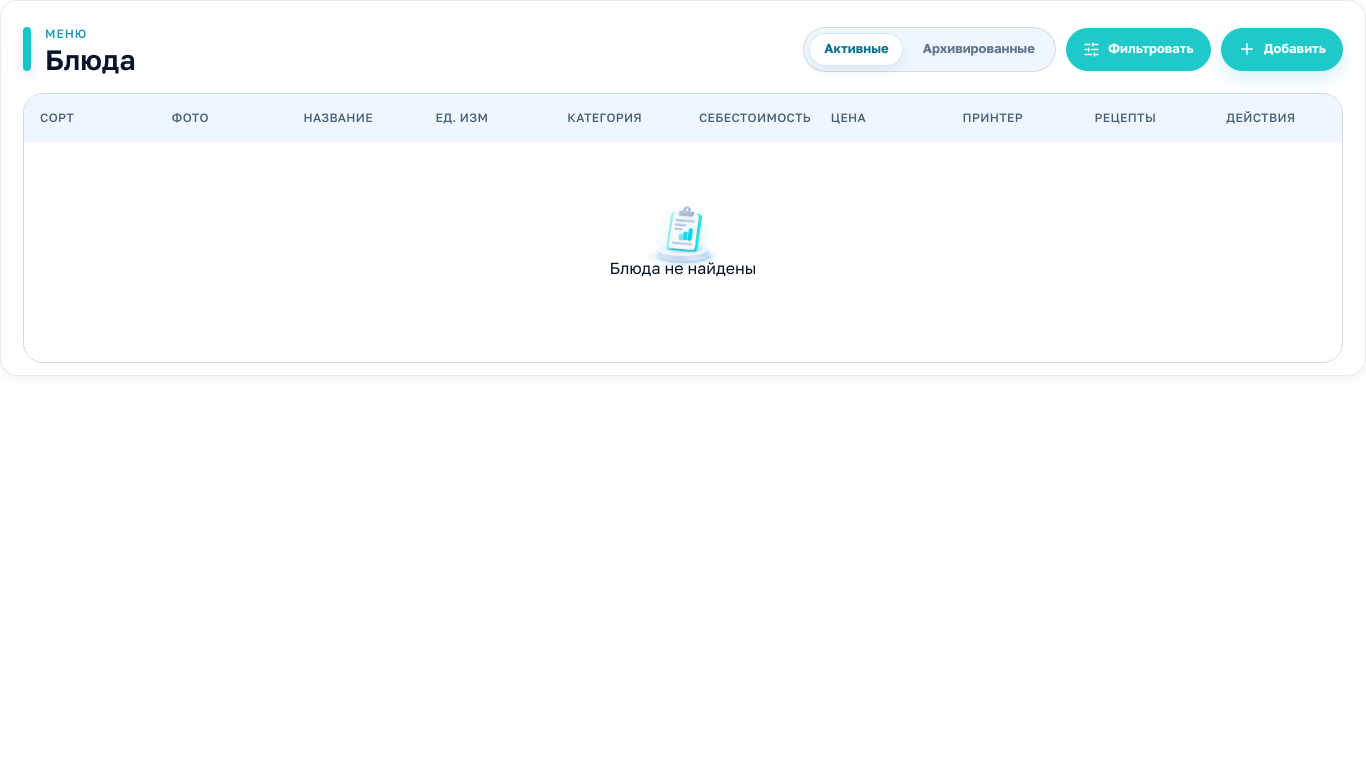
Scenario: DISHES archive/restore confirms › shows restore (not trash) in Archived and restores through confirm
Expected: the table named "Блюда" is shown, top-left (24, 94), bottom-right (1342, 142)
Click the tab "Архивированные" at (979, 49), box top-left (908, 32), bottom-right (1050, 66)
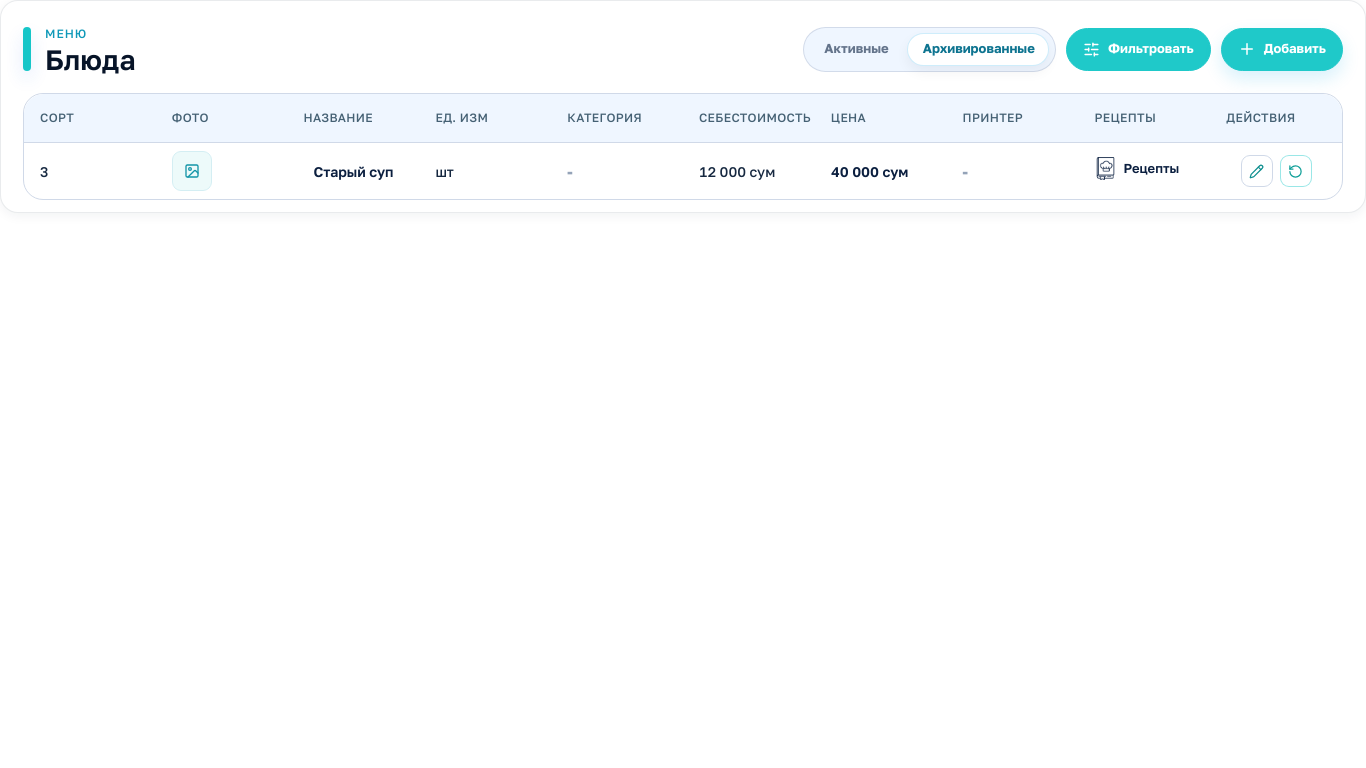
Now the table named "Блюда" shows "Старый суп", box top-left (314, 162), bottom-right (394, 180)
Note: Отмена восстановления: без PATCH.
Click the button named "Восстановить" at (1296, 171), box top-left (1280, 155), bottom-right (1312, 187)
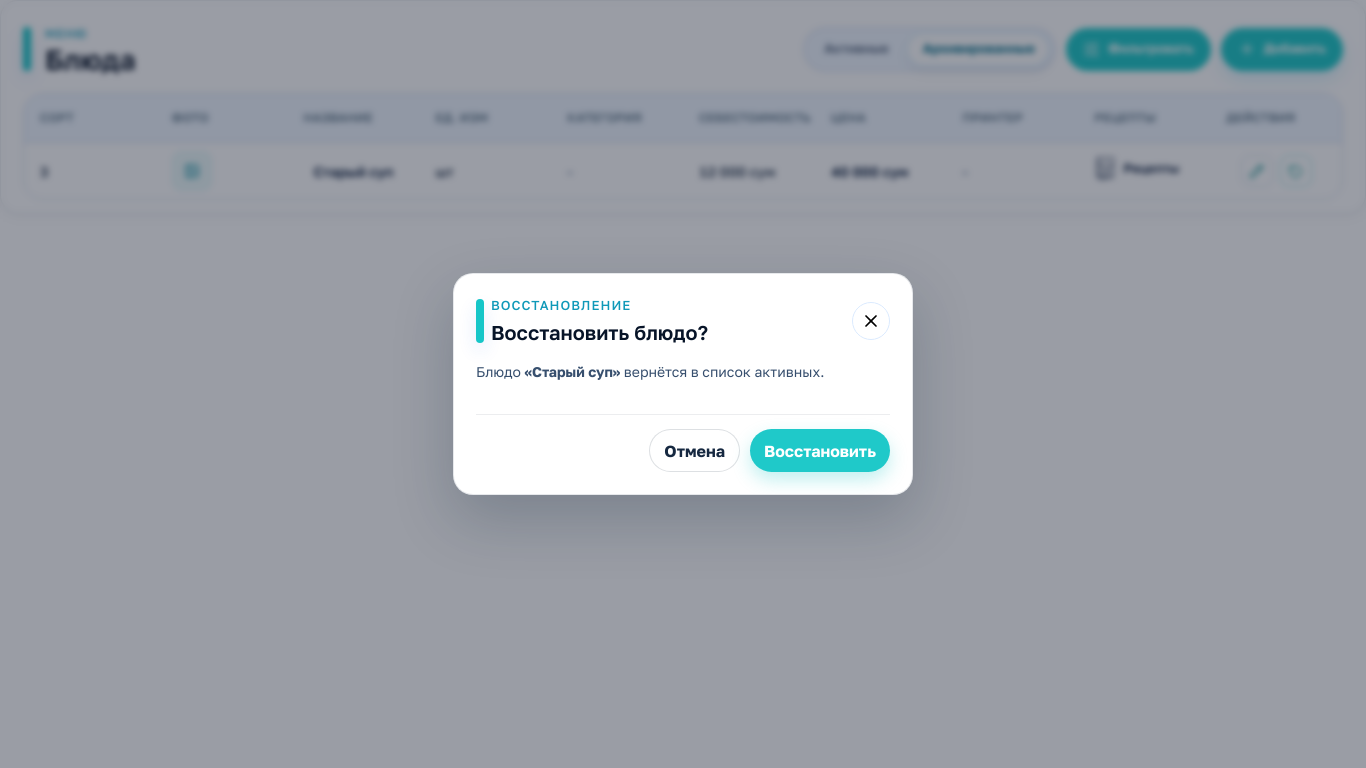
Now the dialog "Восстановить блюдо?" shows "Старый суп", box top-left (532, 363), bottom-right (613, 380)
Click the button "Отмена" at (695, 451), box top-left (649, 429), bottom-right (740, 472)
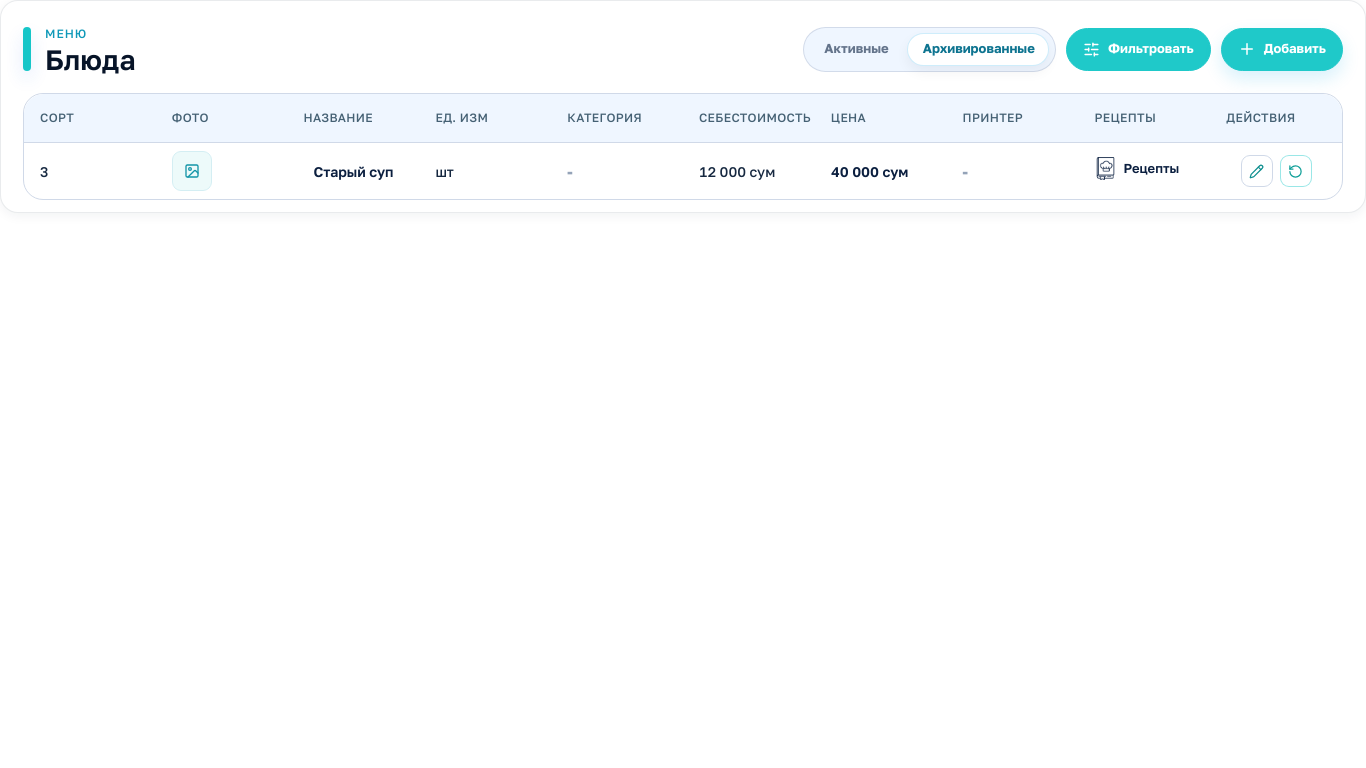
Now the heading "Восстановить блюдо?" is gone
Click the button named "Восстановить" at (1296, 171), box top-left (1280, 155), bottom-right (1312, 187)
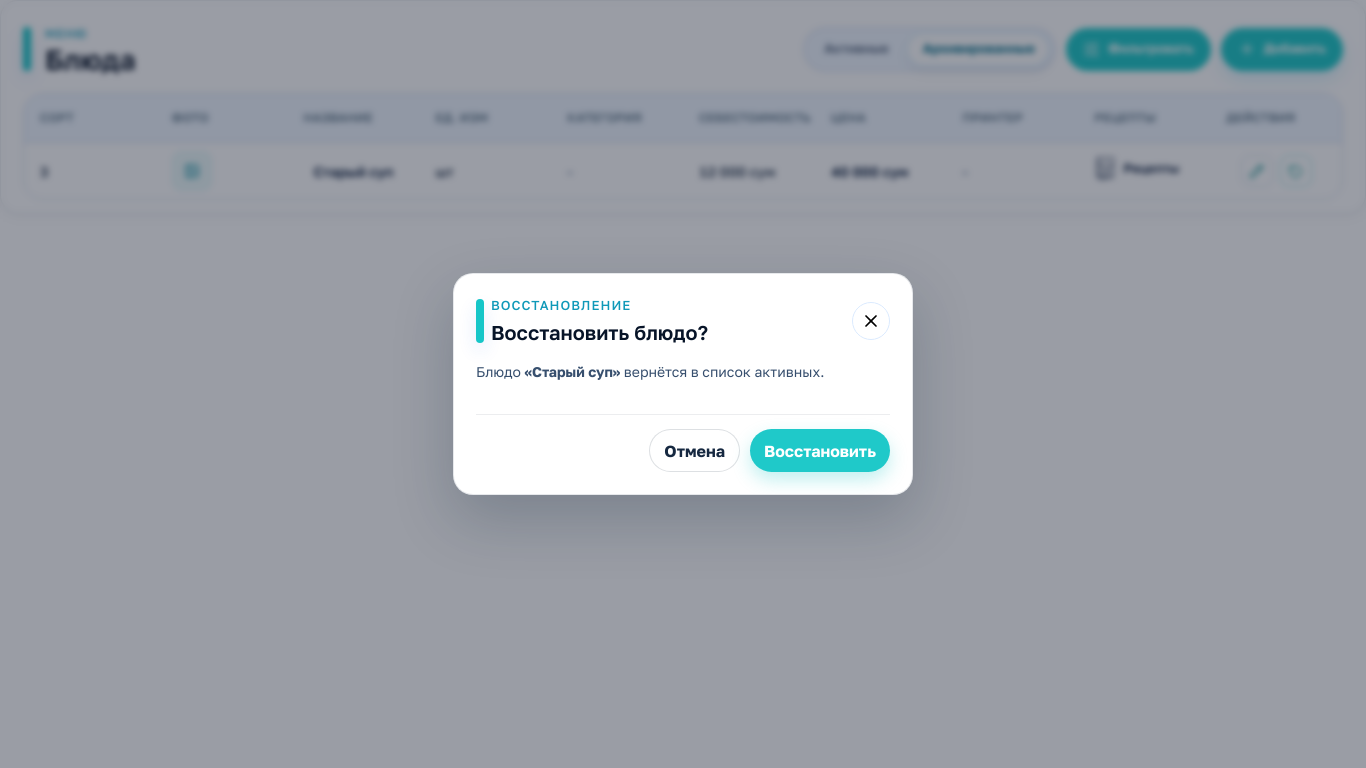
Click the button "Восстановить" at (820, 451), box top-left (750, 429), bottom-right (890, 472)
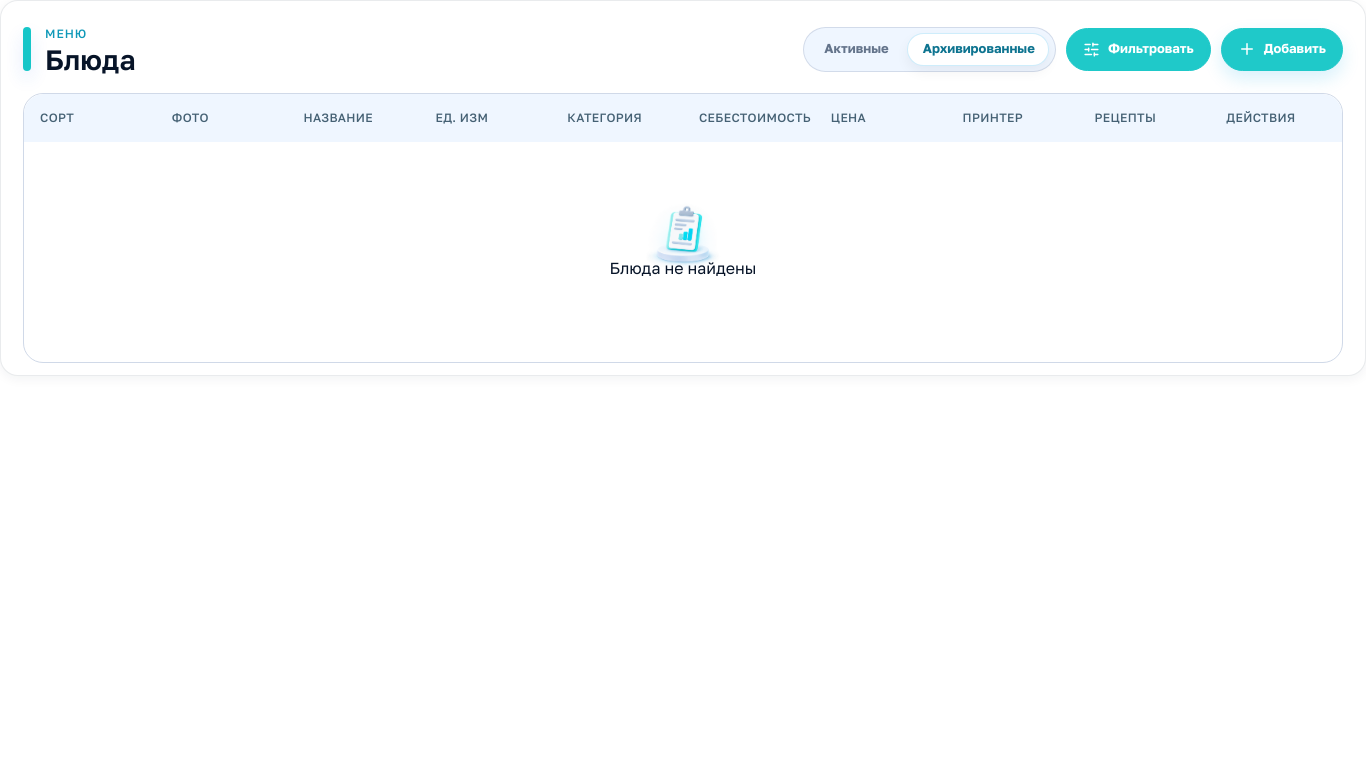
Now the heading "Восстановить блюдо?" is gone
Click the tab "Активные" at (856, 49), box top-left (809, 32), bottom-right (904, 66)
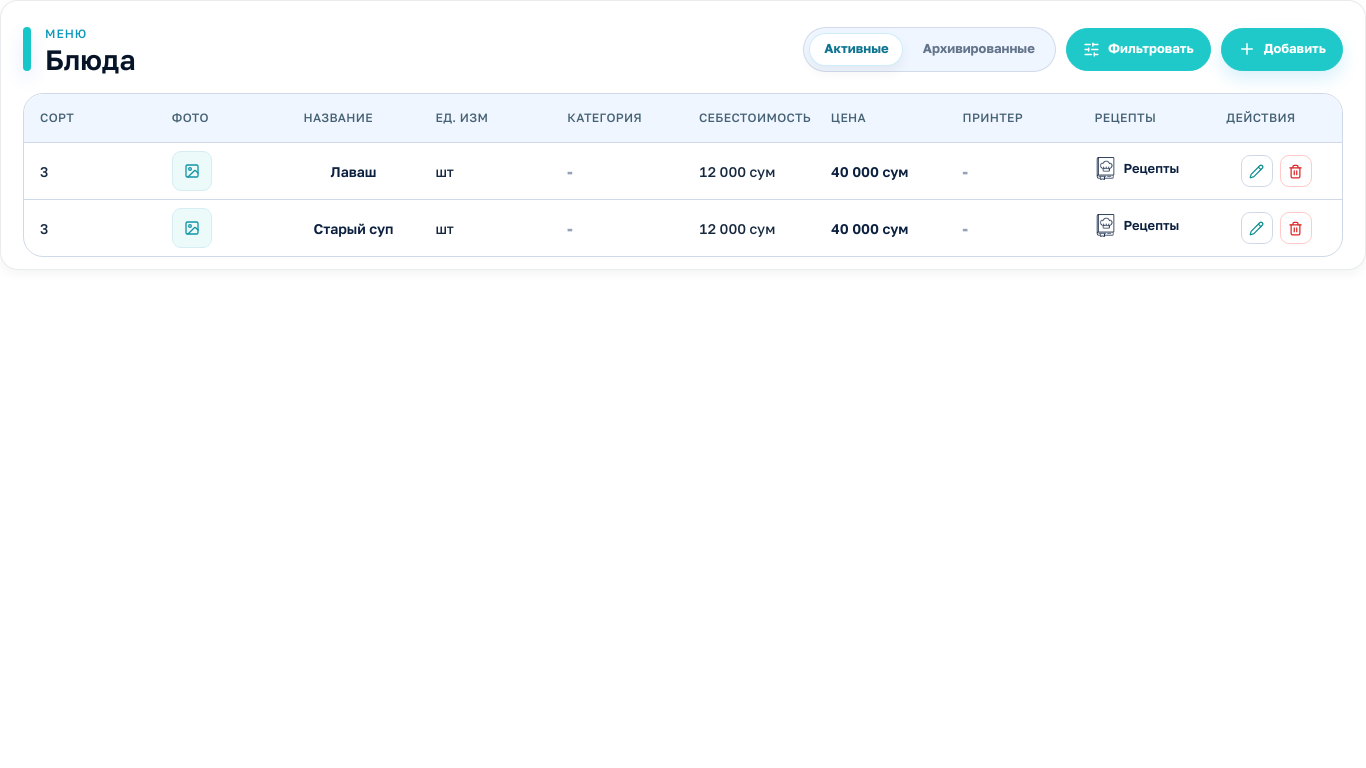
Now the table named "Блюда" shows "Старый суп", box top-left (314, 220), bottom-right (394, 236)
